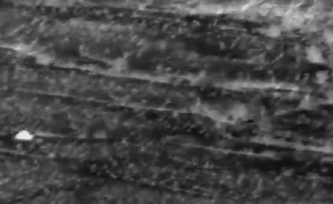Target: (16, 130, 33, 139)
